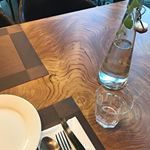other: (93, 81, 135, 130)
